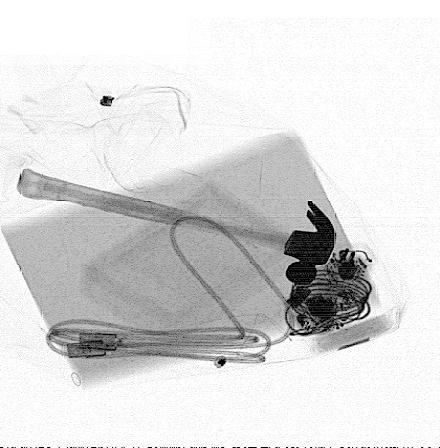Hammer: (16, 168, 335, 285)
